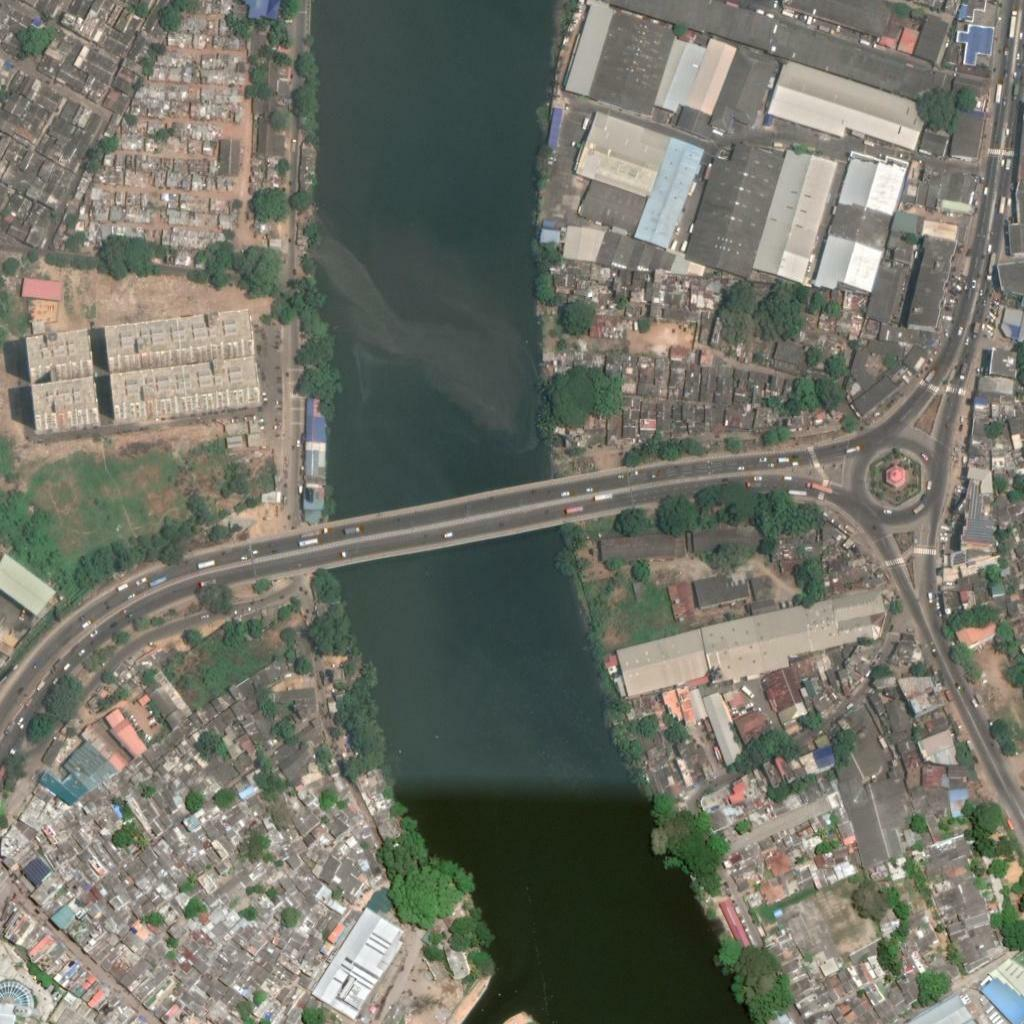construction waste: (90, 31, 247, 238)
